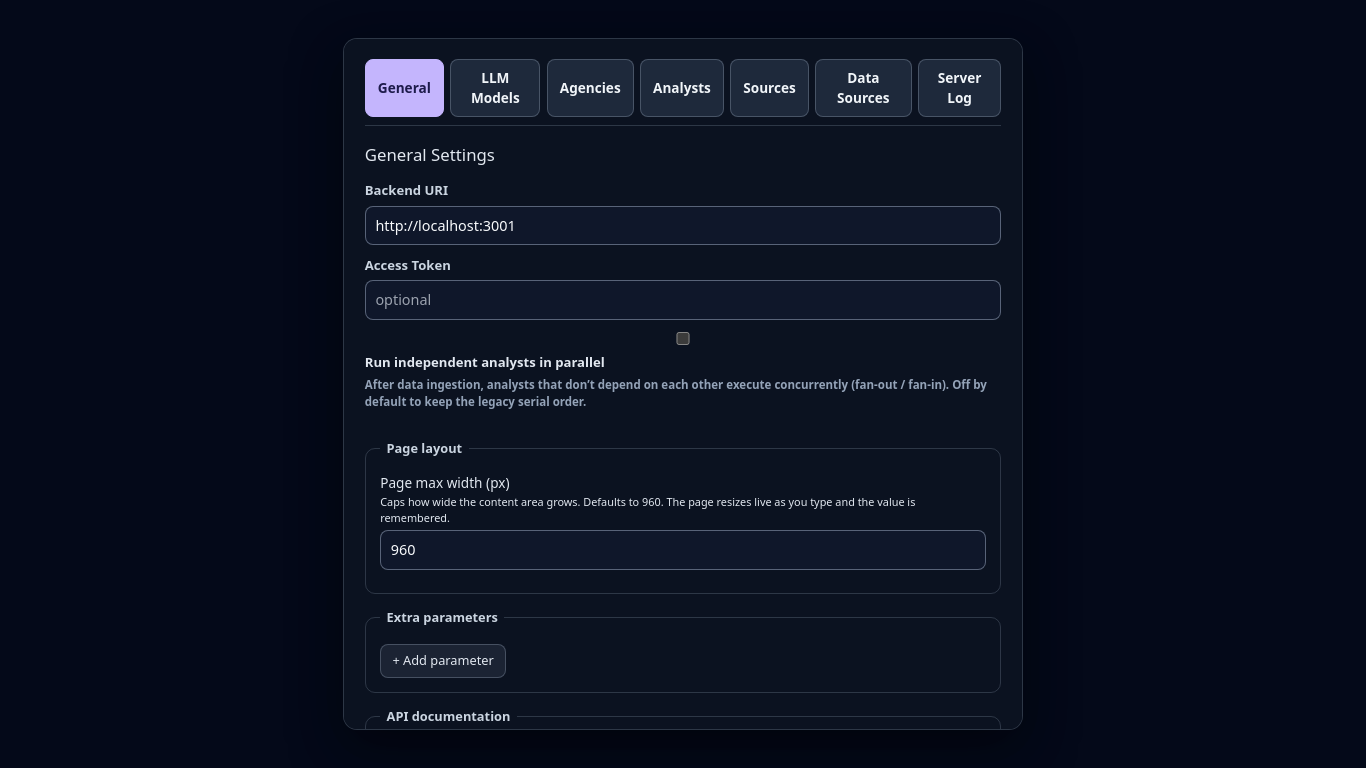
Test case: SettingsDialog — Agencies tab › cancel edit clears the form back to create mode
This screenshot has width=1366, height=768.
Click the tab with test id "tab-agencies".
click(590, 88)  # box x1=547 y1=59 x2=634 y2=117
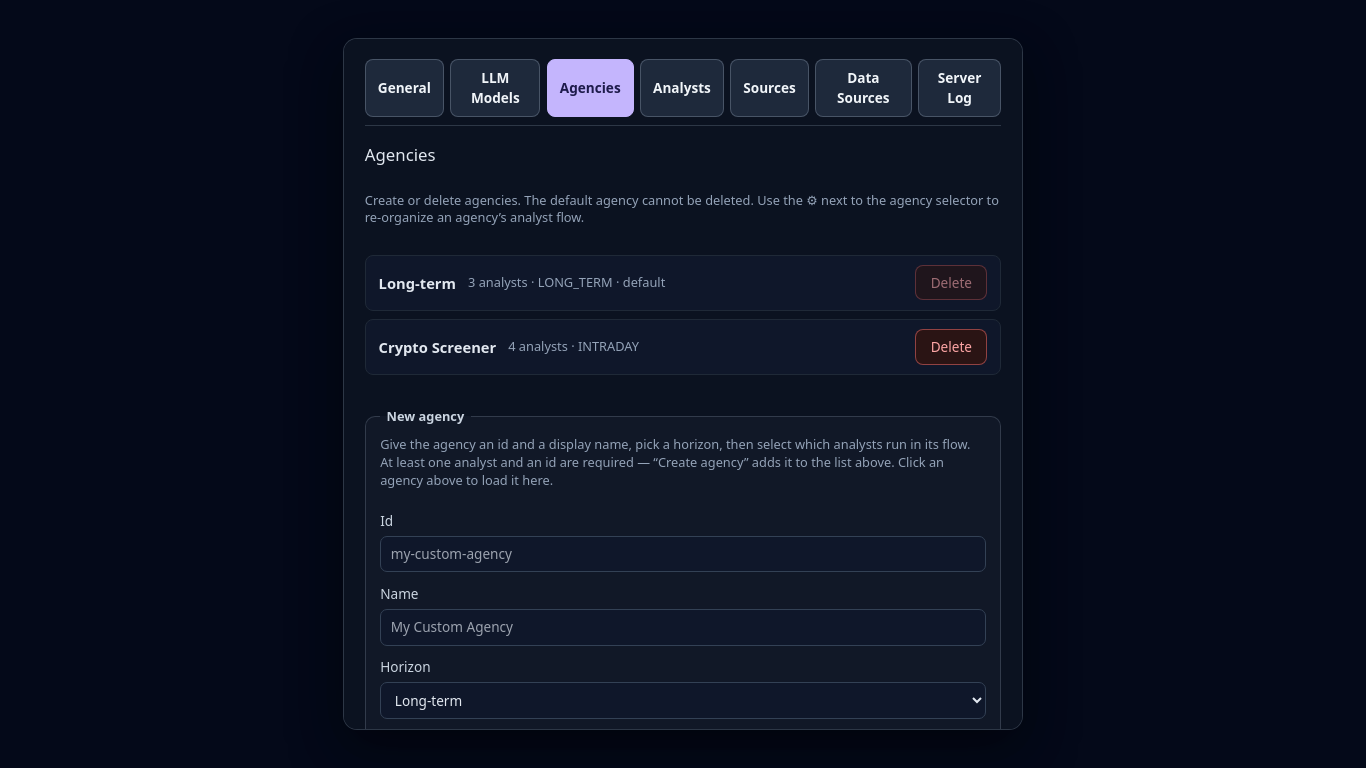
Result: the list with test id "agency-admin-list" is shown at x1=365 y1=254 x2=1001 y2=375
Click the list item with test id "agency-admin-long-term".
click(683, 283)  # box x1=365 y1=254 x2=1001 y2=311
(page scrolled)
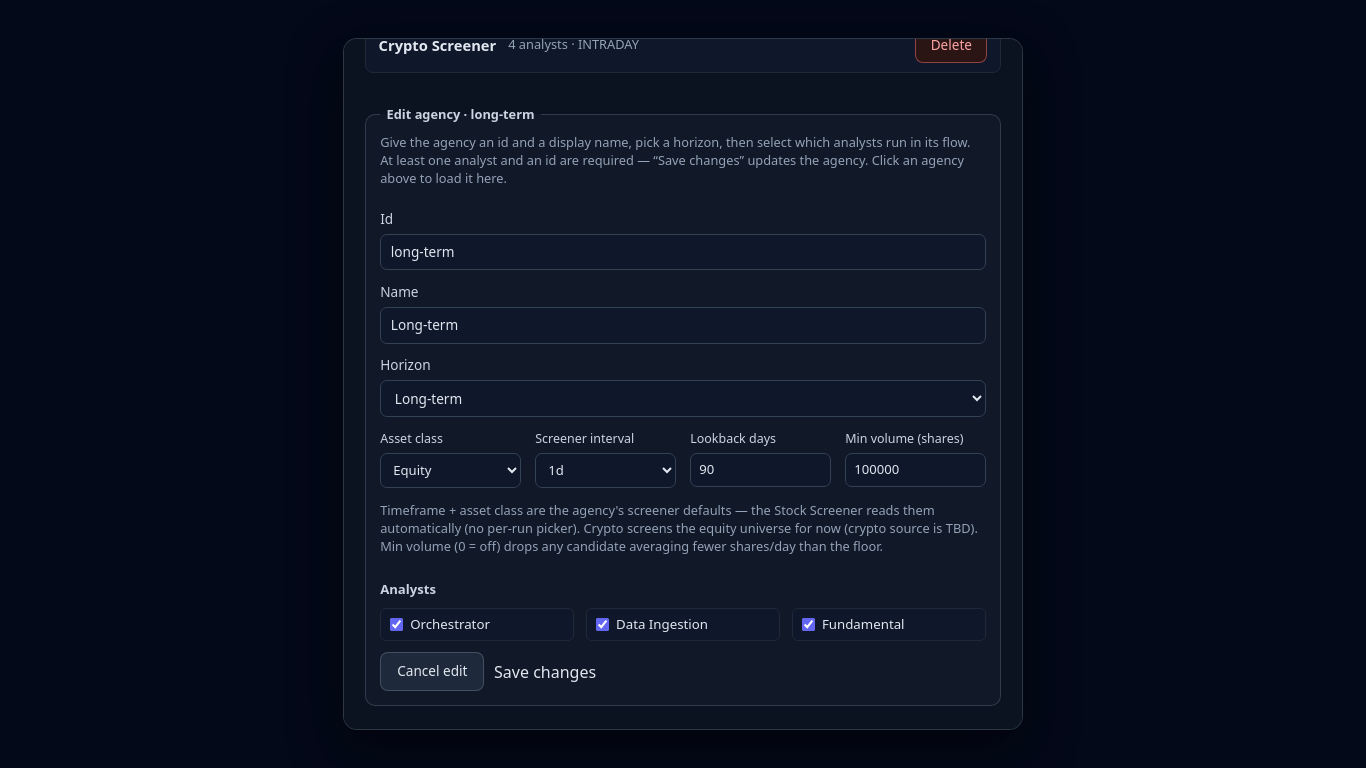
Click the button "Cancel edit".
click(432, 672)  # box x1=380 y1=652 x2=484 y2=691
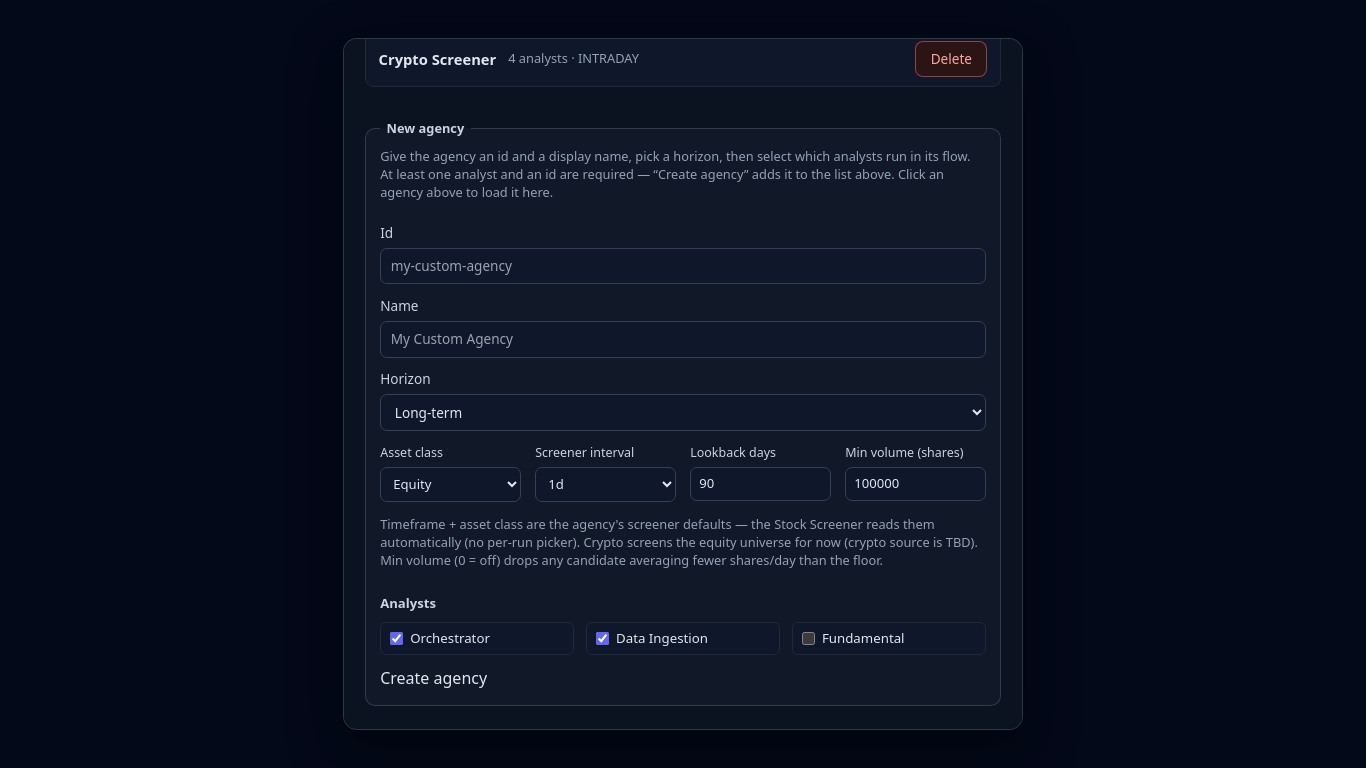
Result: the field with test id "new-agency-id" is empty at x1=380 y1=248 x2=986 y2=284
Result: the text "Edit agency ·" is gone
